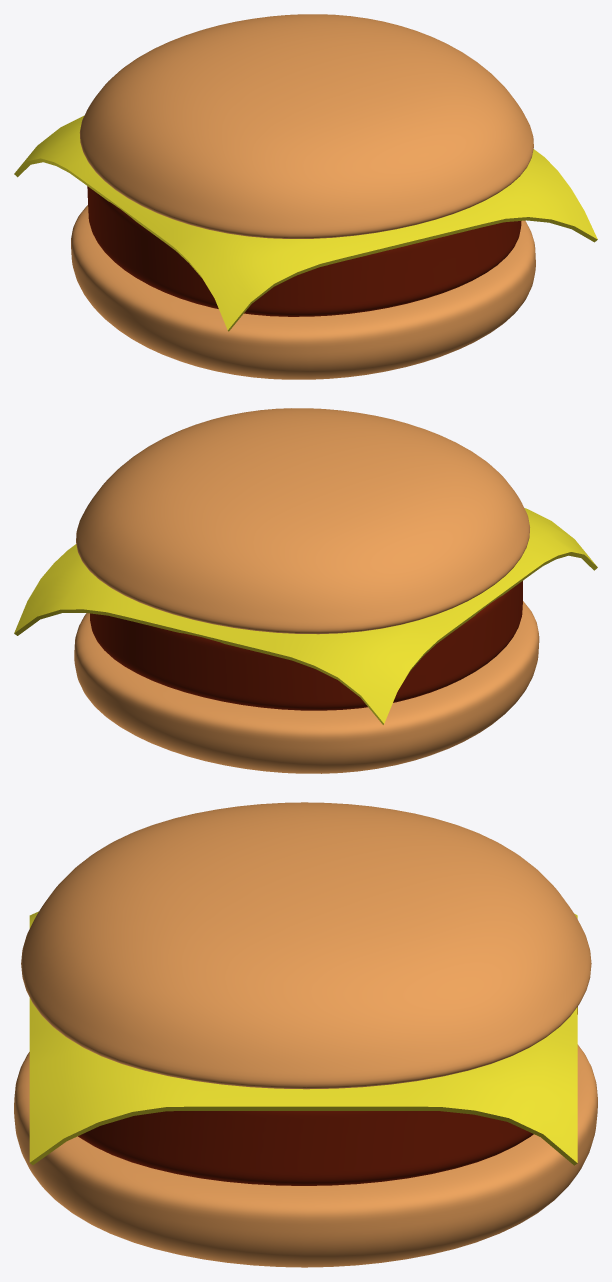
Rendered from Burger.glb.
3 renders of one model, top to bottom at view 1: azimuth 30°, elevation 25°; view 2: azimuth 150°, elevation 25°; view 3: azimuth 270°, elevation 25°, orthographic. The views are drawn at different scales.
Visible parts, largest first — view 1: Cube.002, Cube, Plane, Cube.001; view 2: Cube.002, Cube, Plane, Cube.001; view 3: Cube.002, Cube, Plane, Cube.001.
Boxes of the visible parts, box(x1,y1,x2,y2) form: Cube.002: box(79, 14, 533, 238); Cube: box(71, 205, 535, 379); Plane: box(14, 116, 597, 331); Cube.001: box(87, 186, 521, 316); Cube.002: box(76, 408, 529, 634); Cube: box(74, 601, 539, 773); Plane: box(14, 508, 597, 724); Cube.001: box(90, 581, 522, 710); Cube.002: box(21, 802, 591, 1089); Cube: box(14, 1044, 597, 1267); Plane: box(29, 911, 577, 1165); Cube.001: box(78, 1006, 577, 1185).
Size of the model in its own units: 9.17 by 5.65 by 9.17.
